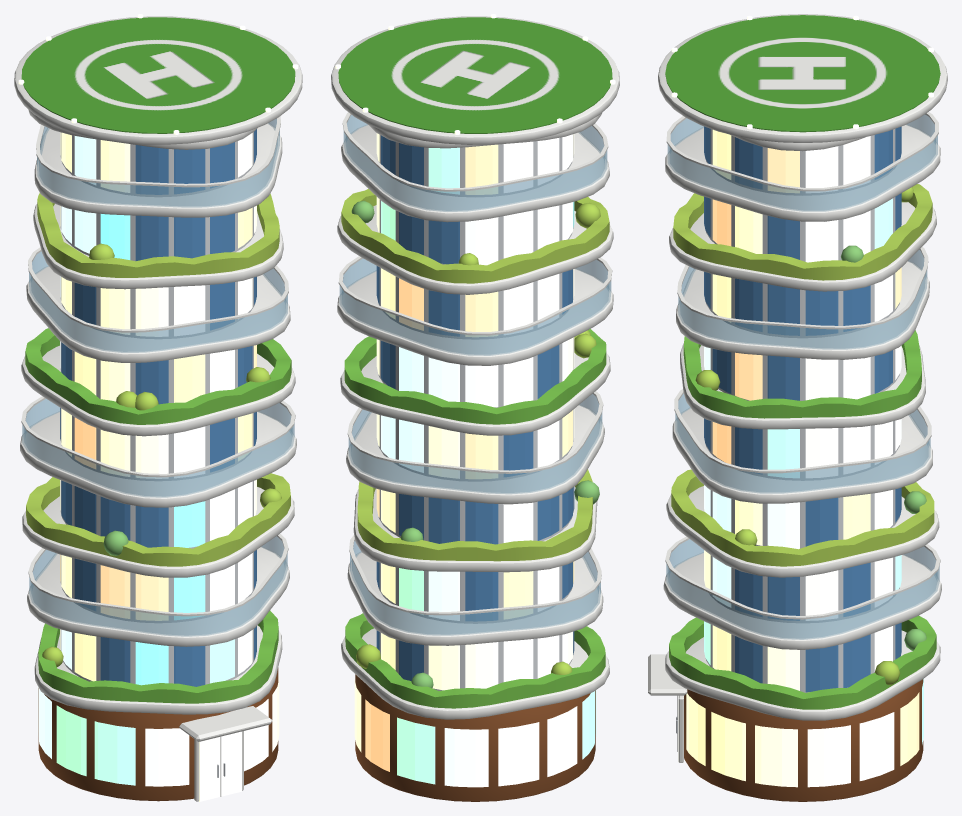
The model's file is torre_redonda_heliponto.glb.
3 views of the same model, side by side, from view 1: azimuth 30°, elevation 25°; view 2: azimuth 150°, elevation 25°; view 3: azimuth 270°, elevation 25° (orthographic).
Parts seen in each view (by area): view 1: torre_redonda_heliponto; view 2: torre_redonda_heliponto; view 3: torre_redonda_heliponto.
Boxes of the visible parts, x1,y1,x2,y2 form: torre_redonda_heliponto: (14,14,302,801); torre_redonda_heliponto: (331,14,619,801); torre_redonda_heliponto: (648,14,947,801).
Size of the model in its own units: 11.8 by 30.57 by 12.2.
10 materials, 2 textured.
